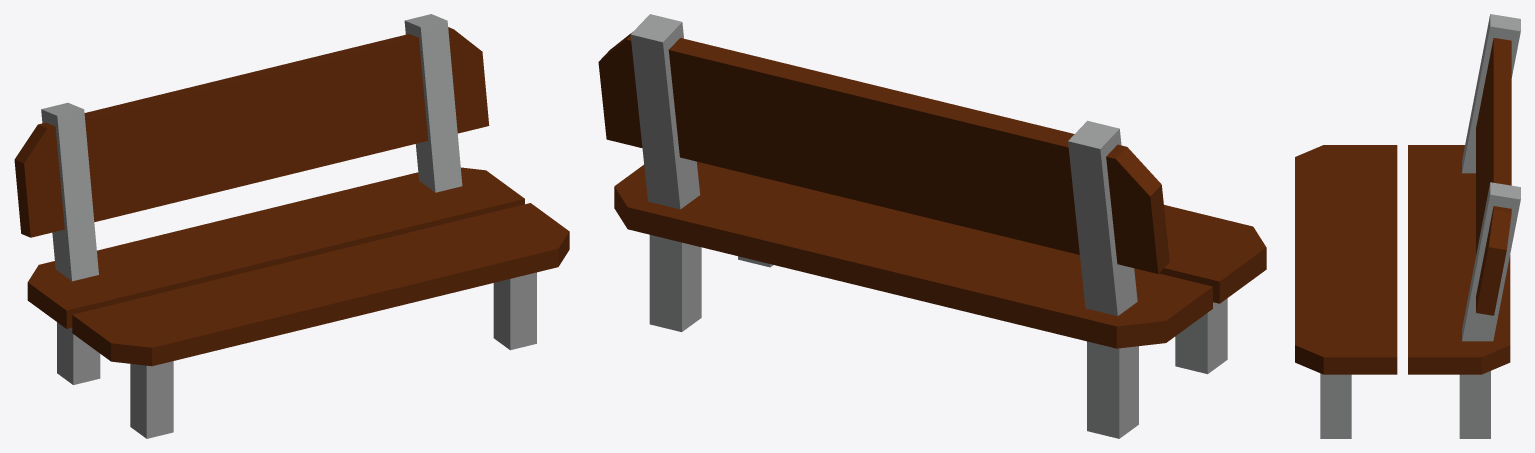
Rendered from Bench 1.fbx.
3 renders of one model, left to right at view 1: azimuth 30°, elevation 25°; view 2: azimuth 150°, elevation 25°; view 3: azimuth 270°, elevation 25°, orthographic. The views are drawn at different scales.
Parts seen in each view (by area): view 1: Bench_01; view 2: Bench_01; view 3: Bench_01.
Part boxes in pixels (left/top/right/bottom): Bench_01: left=14, top=14, right=569, bottom=438; Bench_01: left=598, top=14, right=1266, bottom=438; Bench_01: left=1295, top=14, right=1520, bottom=438.
Bounding box in the file's own units: 124 × 66.79 × 55.95.
